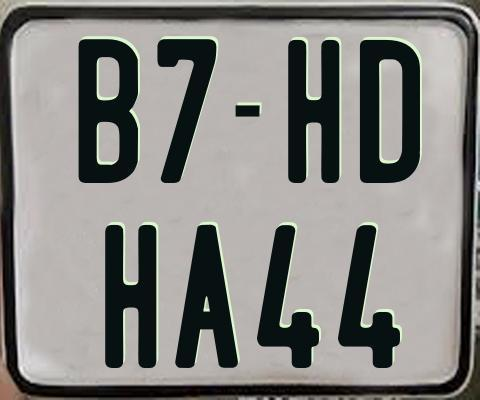4: (256, 223, 322, 366), (338, 223, 401, 372)
7: (157, 38, 222, 184)
A: (173, 223, 238, 370)
B: (77, 39, 140, 186)
D: (358, 37, 418, 183)
H: (103, 225, 158, 374), (288, 39, 344, 184)
